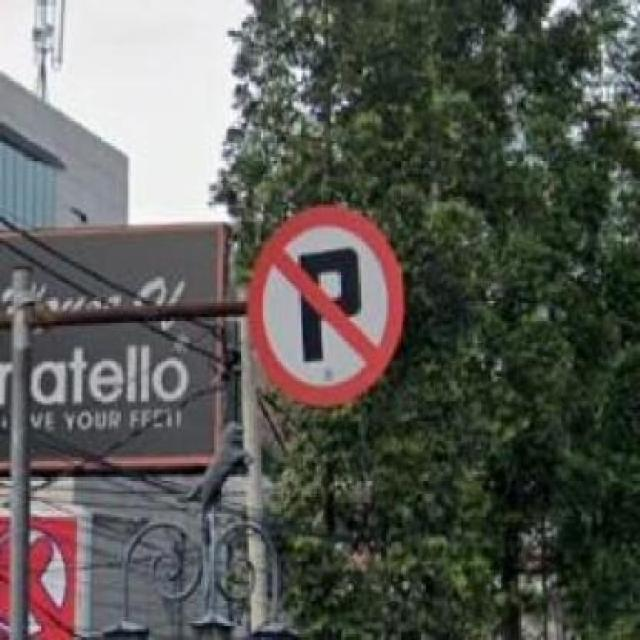no parking: (242, 201, 408, 411)
